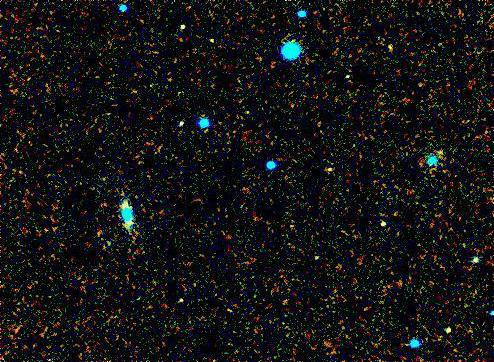star: (427, 138, 457, 168)
